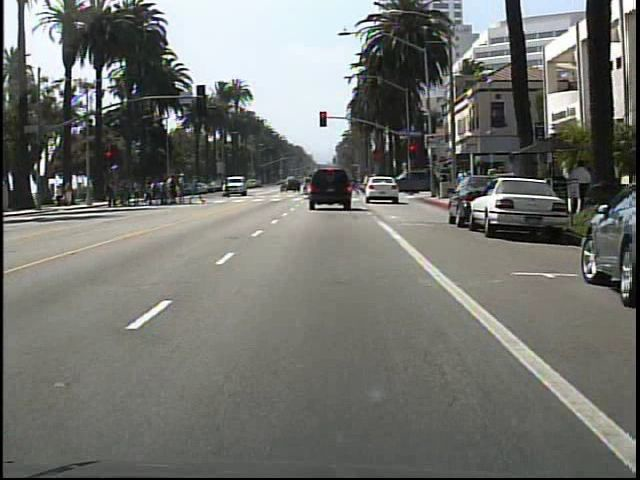person: (564, 157, 594, 219), (216, 173, 235, 201)
